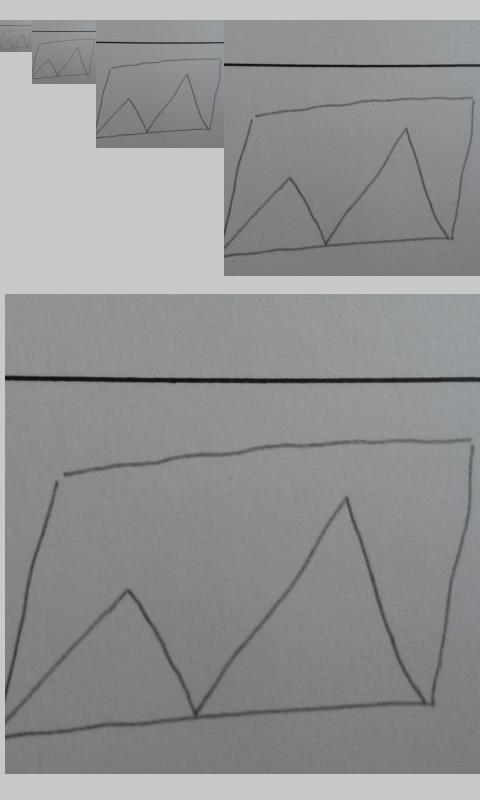image_view: (17, 435, 476, 733), (228, 91, 476, 257), (100, 57, 222, 138), (34, 38, 96, 79), (1, 29, 31, 50)
